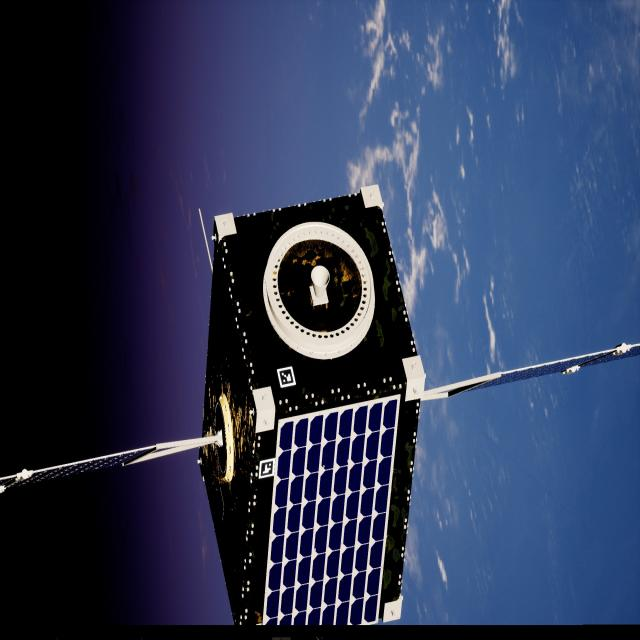satellite: (0, 187, 640, 628)
